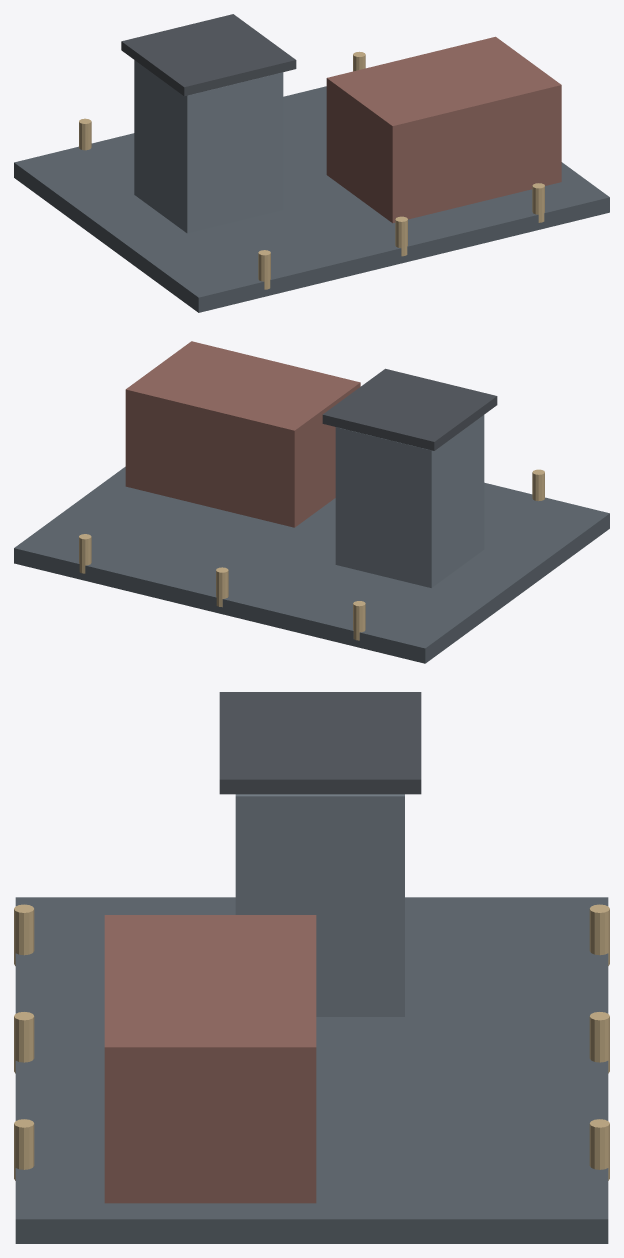
File: escenario_dock.glb
3 renders of one model, top to bottom at view 1: azimuth 30°, elevation 25°; view 2: azimuth 150°, elevation 25°; view 3: azimuth 270°, elevation 25°, orthographic. The views are drawn at different scales.
Size of the model in its own units: 9 by 3.49 by 7.04.
